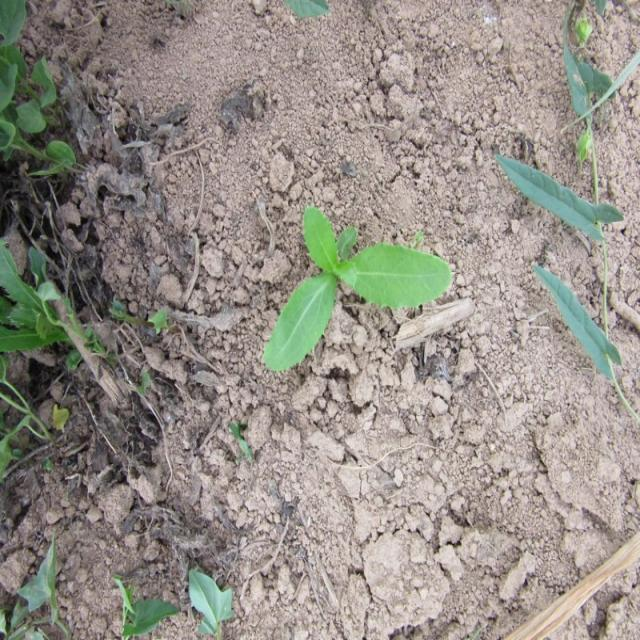cs: (262, 198, 460, 380)
